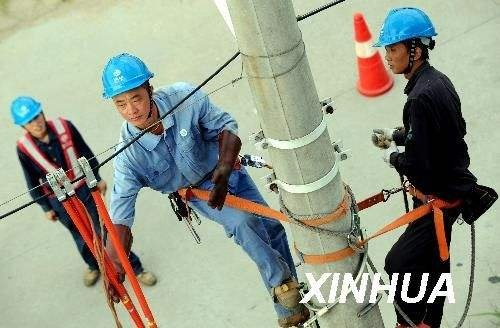blue: (99, 53, 154, 126), (380, 7, 436, 78), (9, 93, 45, 138)
